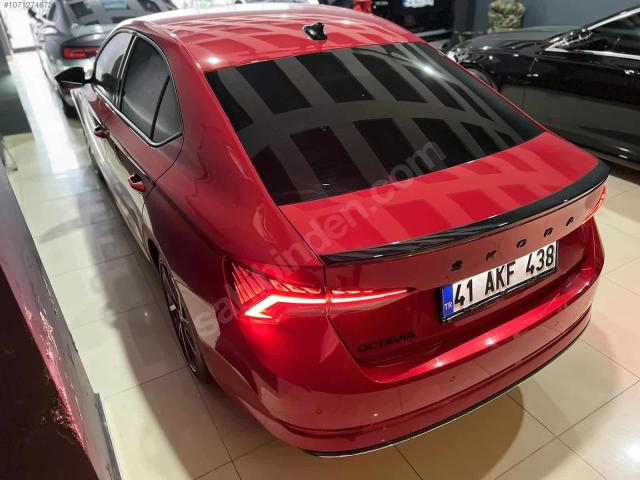plaka: (441, 241, 558, 322)
